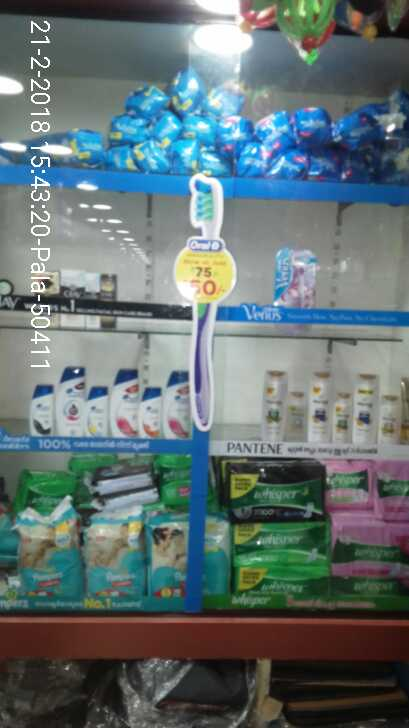venus: (274, 252, 314, 311)
